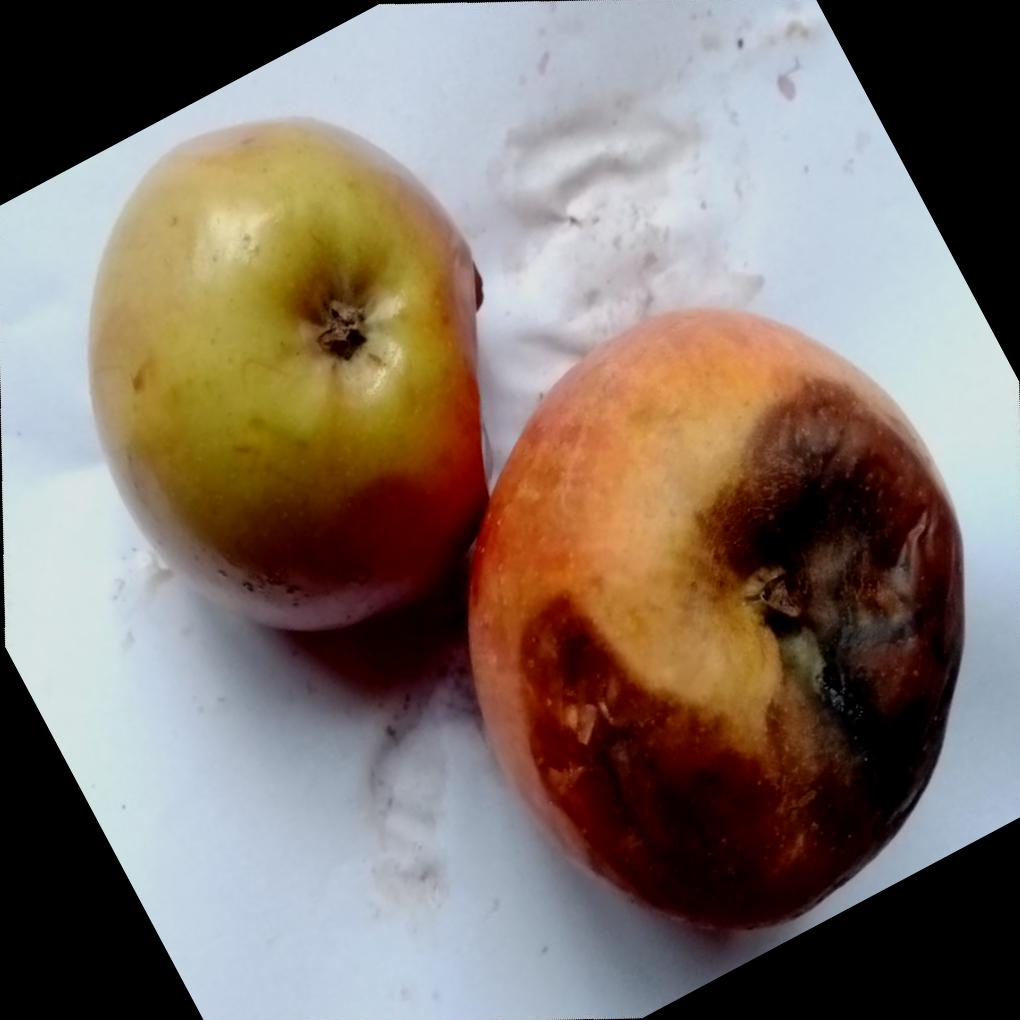FreshOrange: (88, 113, 969, 932)
